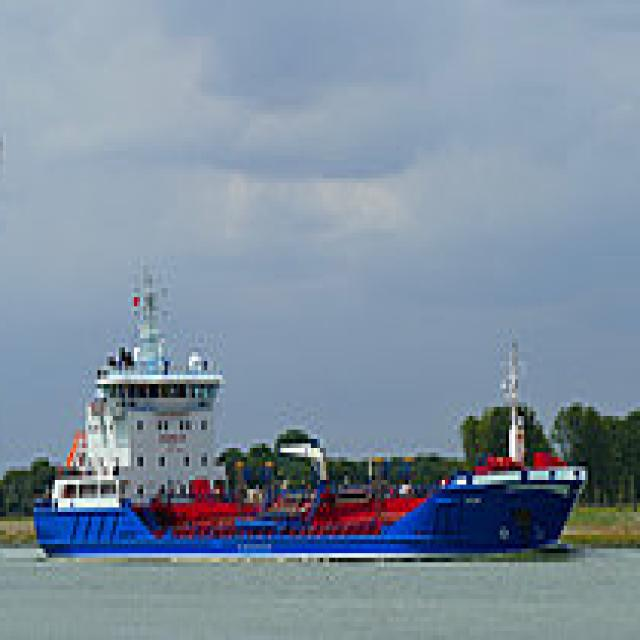Tanker: (31, 261, 594, 562)
